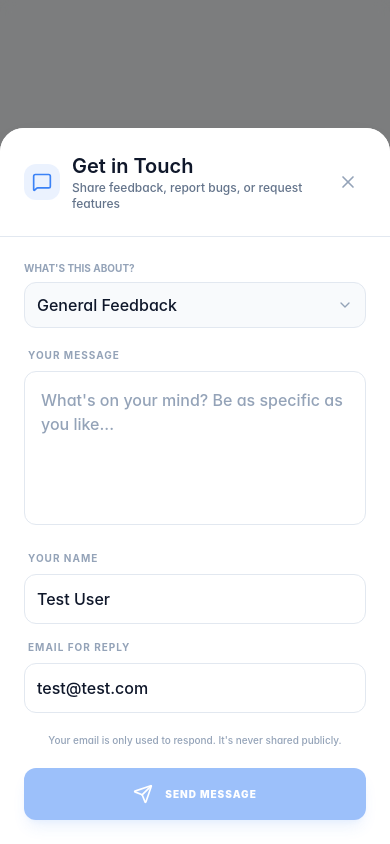
Test: ContactModal › shows error on submission failure
The image size is (390, 844).
In the text box with placeholder "What's on your mind? Be as specific as you like...": (195, 448) top-left (24, 371), bottom-right (366, 525), type "Test message"
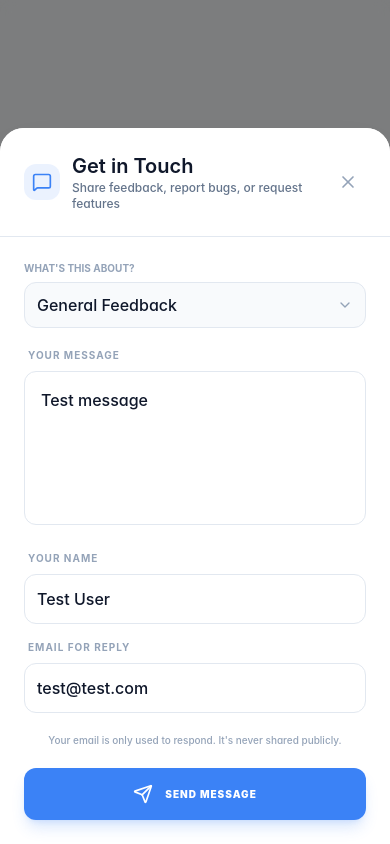
Submit the form with placeholder "what's on your mind"
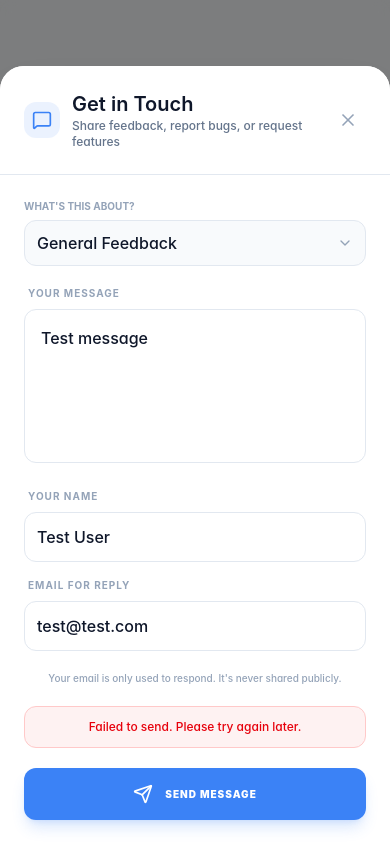
expect the text "Failed to send. Please try again later." is shown: met, box top-left (24, 706), bottom-right (366, 748)
